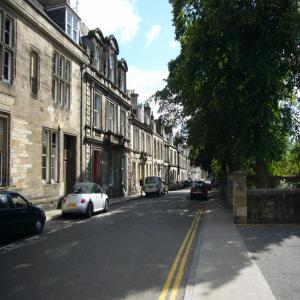Vehicle-registration-plate: (69, 205, 77, 207), (150, 187, 153, 189)
